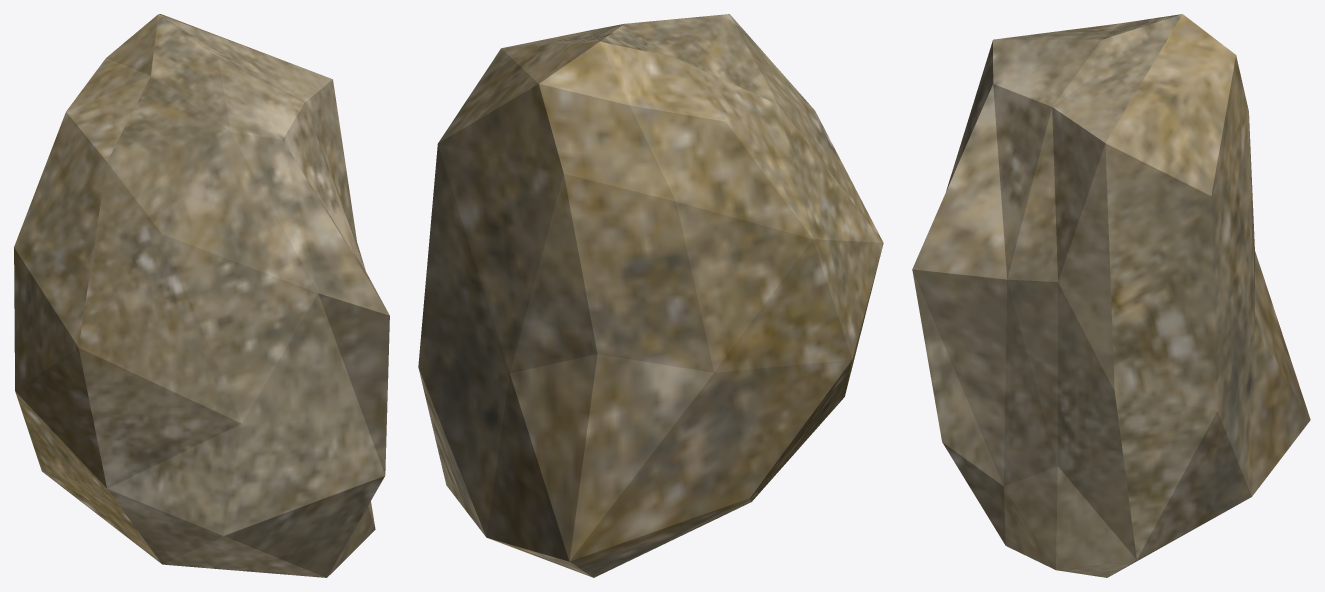
Rendered from Rock_3.fbx.
3 renders of one model, left to right at view 1: azimuth 30°, elevation 25°; view 2: azimuth 150°, elevation 25°; view 3: azimuth 270°, elevation 25°, orthographic. The views are drawn at different scales.
Parts seen in each view (by area): view 1: Icosphere.002; view 2: Icosphere.002; view 3: Icosphere.002.
Boxes of the visible parts, x1=… form: Icosphere.002: x1=14, y1=14, x2=389, y2=577; Icosphere.002: x1=418, y1=14, x2=883, y2=577; Icosphere.002: x1=912, y1=14, x2=1310, y2=577.
Bounding box in the file's own units: 177 × 254 × 174.
